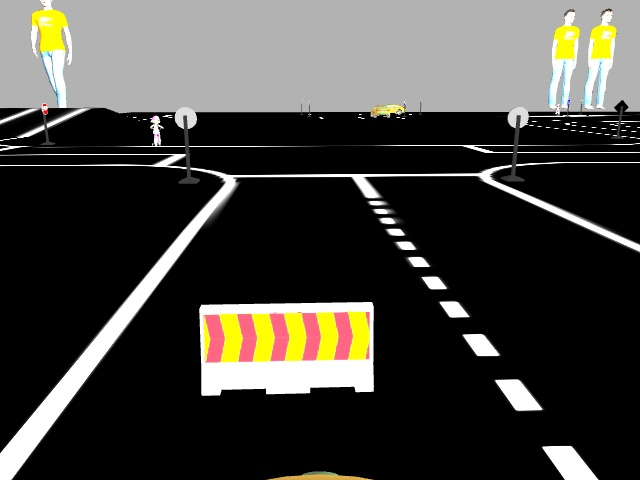ClosedRoadStand: (201, 305, 373, 391)
